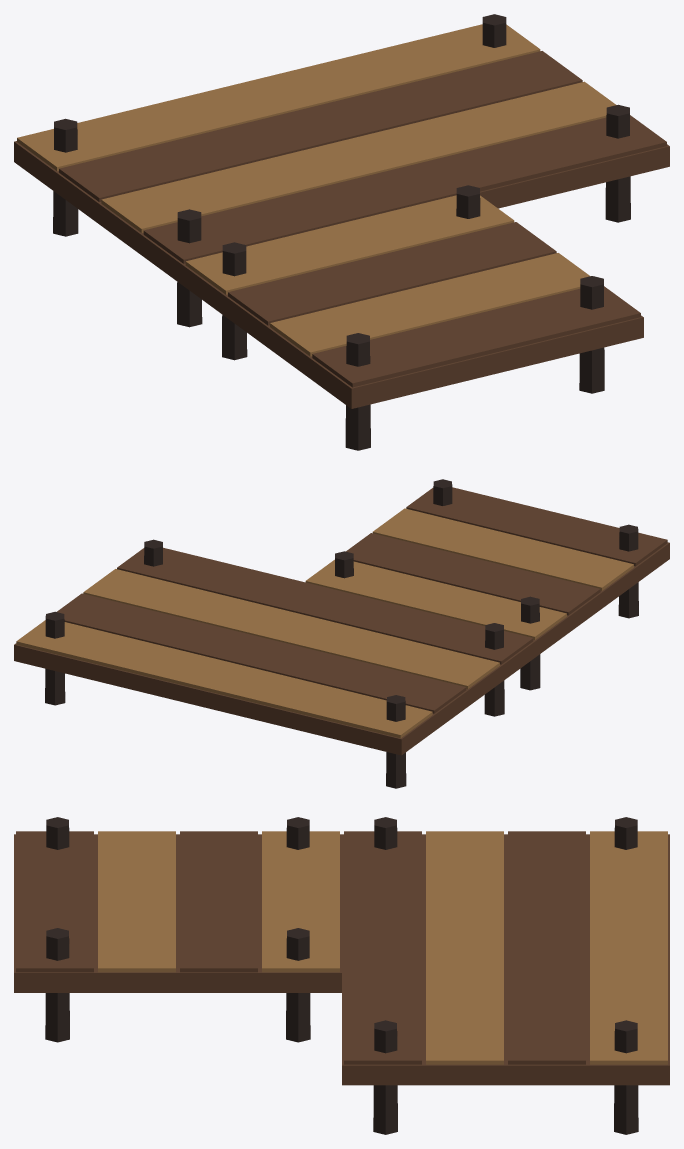
Rendered from PirateCove_DockCorner_Simple.glb.
3 views of the same model, one above another, from view 1: azimuth 30°, elevation 25°; view 2: azimuth 150°, elevation 25°; view 3: azimuth 270°, elevation 25° (orthographic). The views are drawn at different scales.
Parts seen in each view (by area): view 1: PirateCove_DockCorner_Simple; view 2: PirateCove_DockCorner_Simple; view 3: PirateCove_DockCorner_Simple.
Boxes of the visible parts, x1,y1,x2,y2 form: PirateCove_DockCorner_Simple: (14, 14, 669, 450); PirateCove_DockCorner_Simple: (14, 479, 669, 788); PirateCove_DockCorner_Simple: (14, 817, 669, 1134).
Bounding box in the file's own units: 5 × 1.04 × 6.
